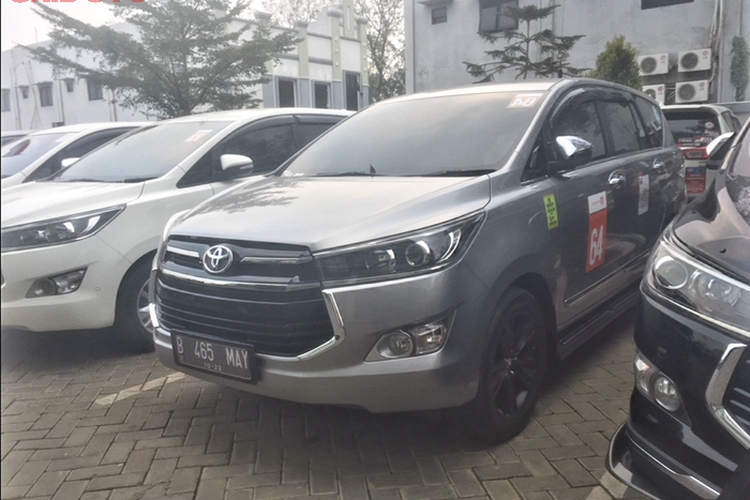plate: (171, 332, 249, 380)
